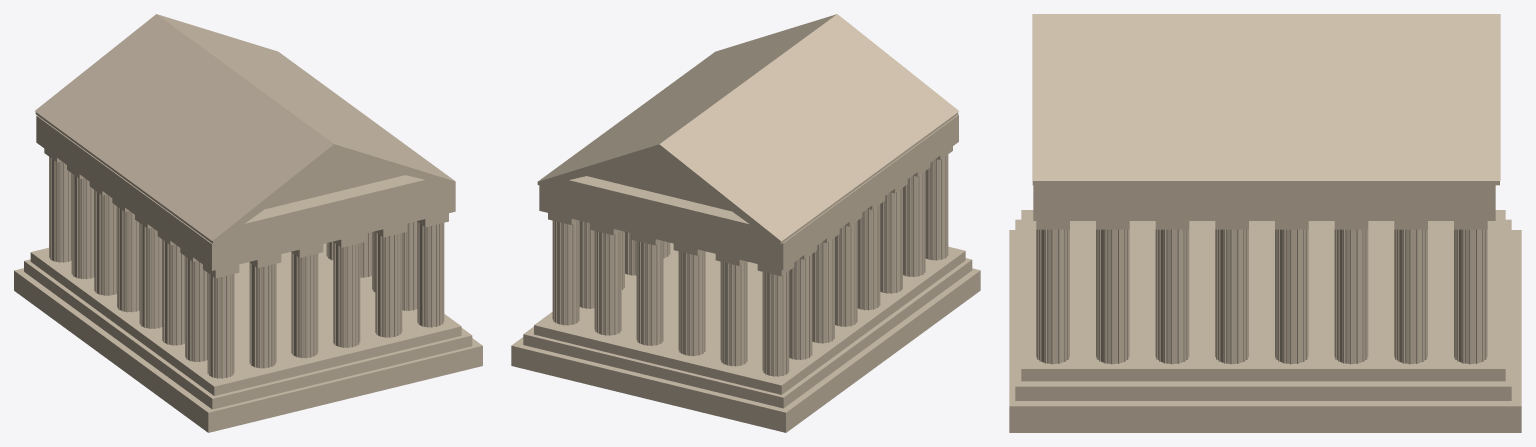
The model's file is parthenon.glb.
3 views of the same model, side by side, from view 1: azimuth 30°, elevation 25°; view 2: azimuth 150°, elevation 25°; view 3: azimuth 270°, elevation 25° (orthographic). The views are drawn at different scales.
Parts seen in each view (by area): view 1: Mesh_Mesh_head_geo.001_lambert2SG.001; view 2: Mesh_Mesh_head_geo.001_lambert2SG.001; view 3: Mesh_Mesh_head_geo.001_lambert2SG.001.
Part boxes in pixels (left/top/right/bottom): Mesh_Mesh_head_geo.001_lambert2SG.001: left=14, top=14, right=482, bottom=432; Mesh_Mesh_head_geo.001_lambert2SG.001: left=511, top=14, right=980, bottom=432; Mesh_Mesh_head_geo.001_lambert2SG.001: left=1009, top=14, right=1521, bottom=432.
Size of the model in its own units: 0.084 by 0.073 by 0.103.
